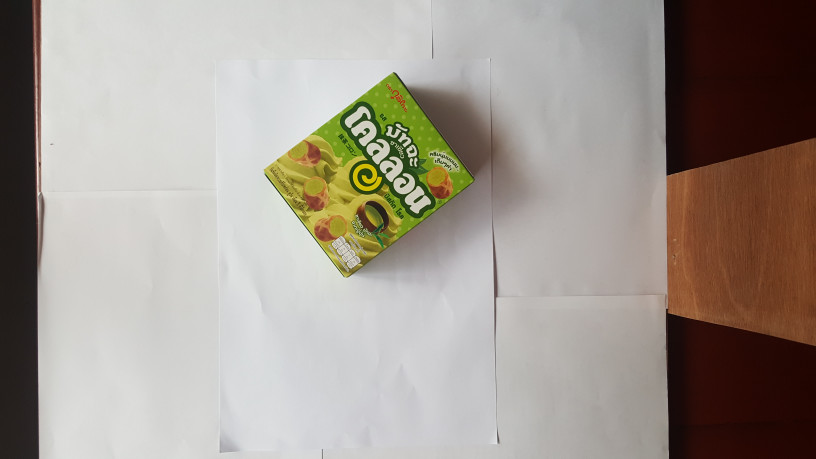collon-matcha: (264, 71, 477, 281)
